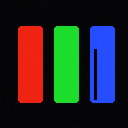4 line_v: (94, 49, 96, 99)
